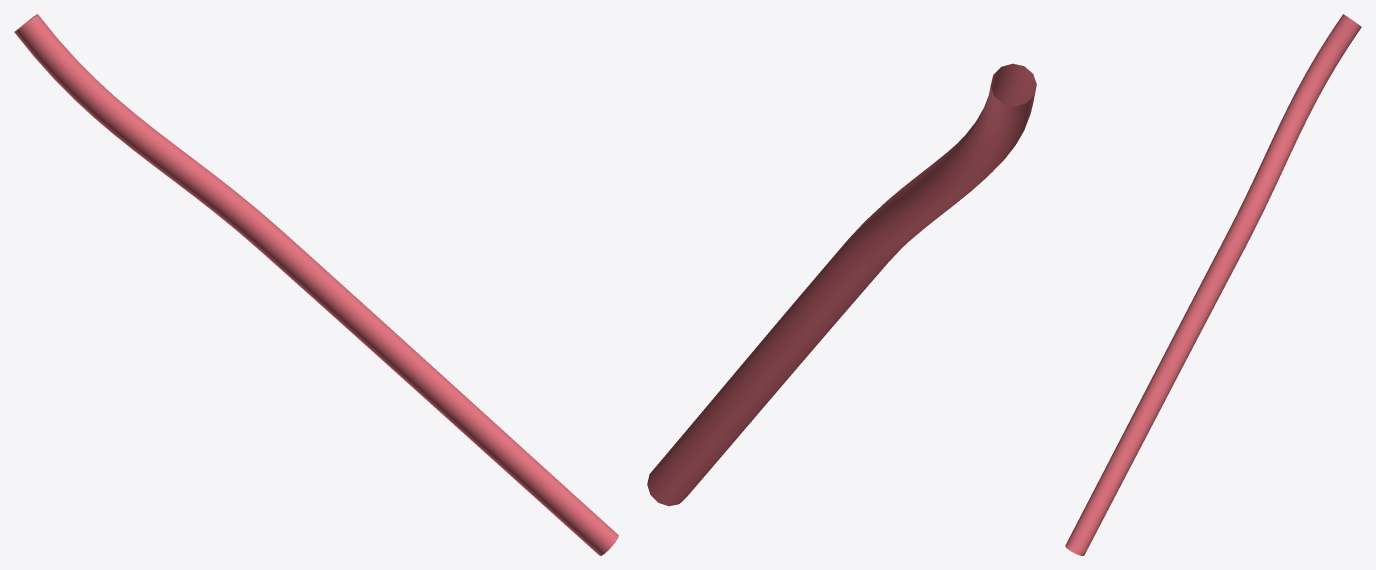
3 views of the same model, side by side, from view 1: azimuth 30°, elevation 25°; view 2: azimuth 150°, elevation 25°; view 3: azimuth 270°, elevation 25° (orthographic). The views are drawn at different scales.
Visible parts, largest first — view 1: ZA_30127190aa89afd4; view 2: ZA_30127190aa89afd4; view 3: ZA_30127190aa89afd4.
Part boxes in pixels (x1,y1,x2,y2): ZA_30127190aa89afd4: (14,14,618,555); ZA_30127190aa89afd4: (647,63,1036,506); ZA_30127190aa89afd4: (1065,14,1361,555).
Bounding box in the file's own units: 0.0222 × 0.0253 × 0.0173.
